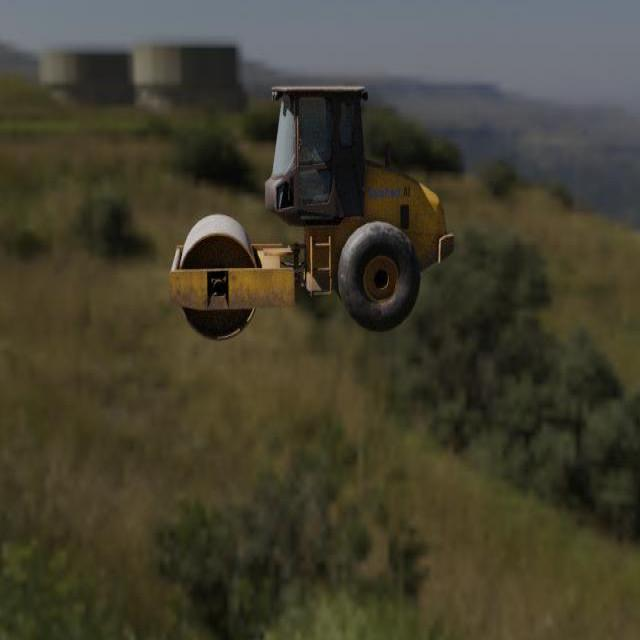Roller: (168, 86, 454, 342)
